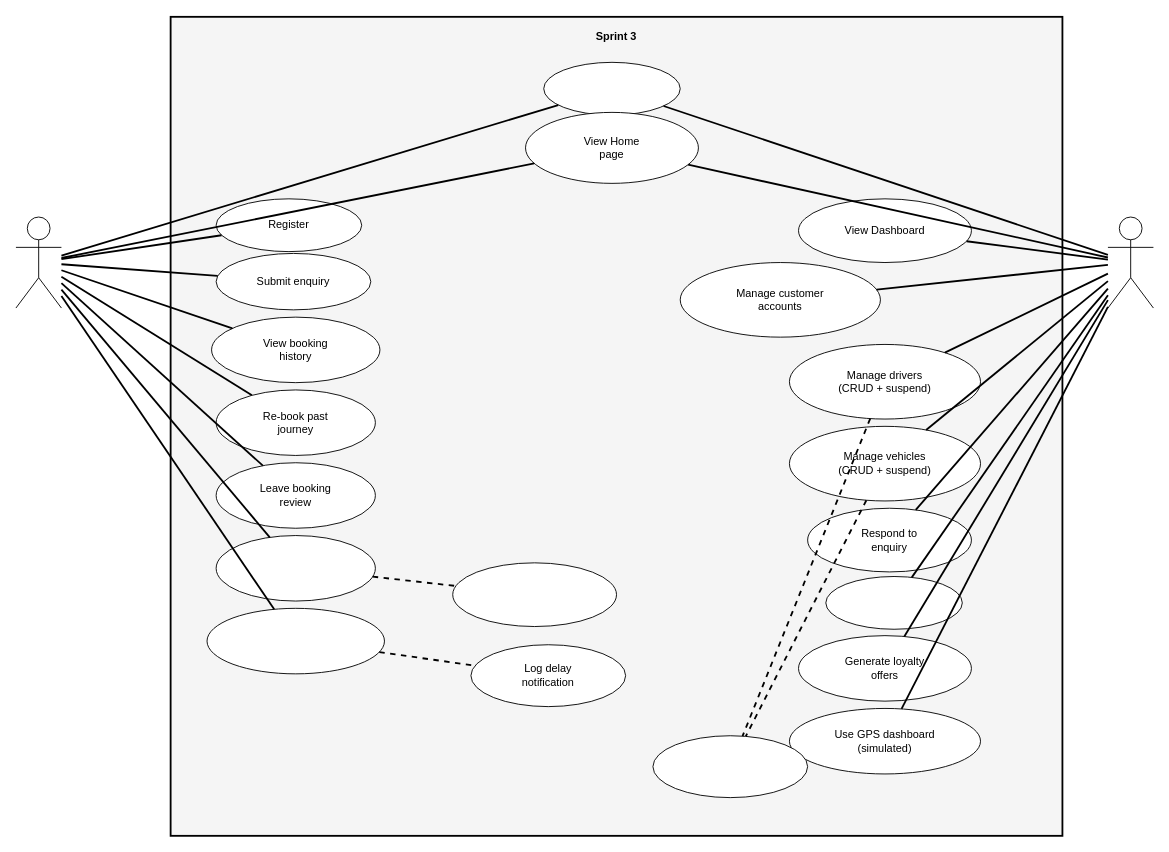
Image size: 1169x852. Some labels were removed from this diagram. Here are the shapes that lost their labels. From the top down, the centre of each, then its label:
[611,88]: Login
[38,262]: User
[1130,262]: Admin
[295,568]: Redeem offer code
[534,594]: Apply offer discount
[893,602]: View reviews
[295,640]: Receive delay notification
[730,766]: Log admin activity
